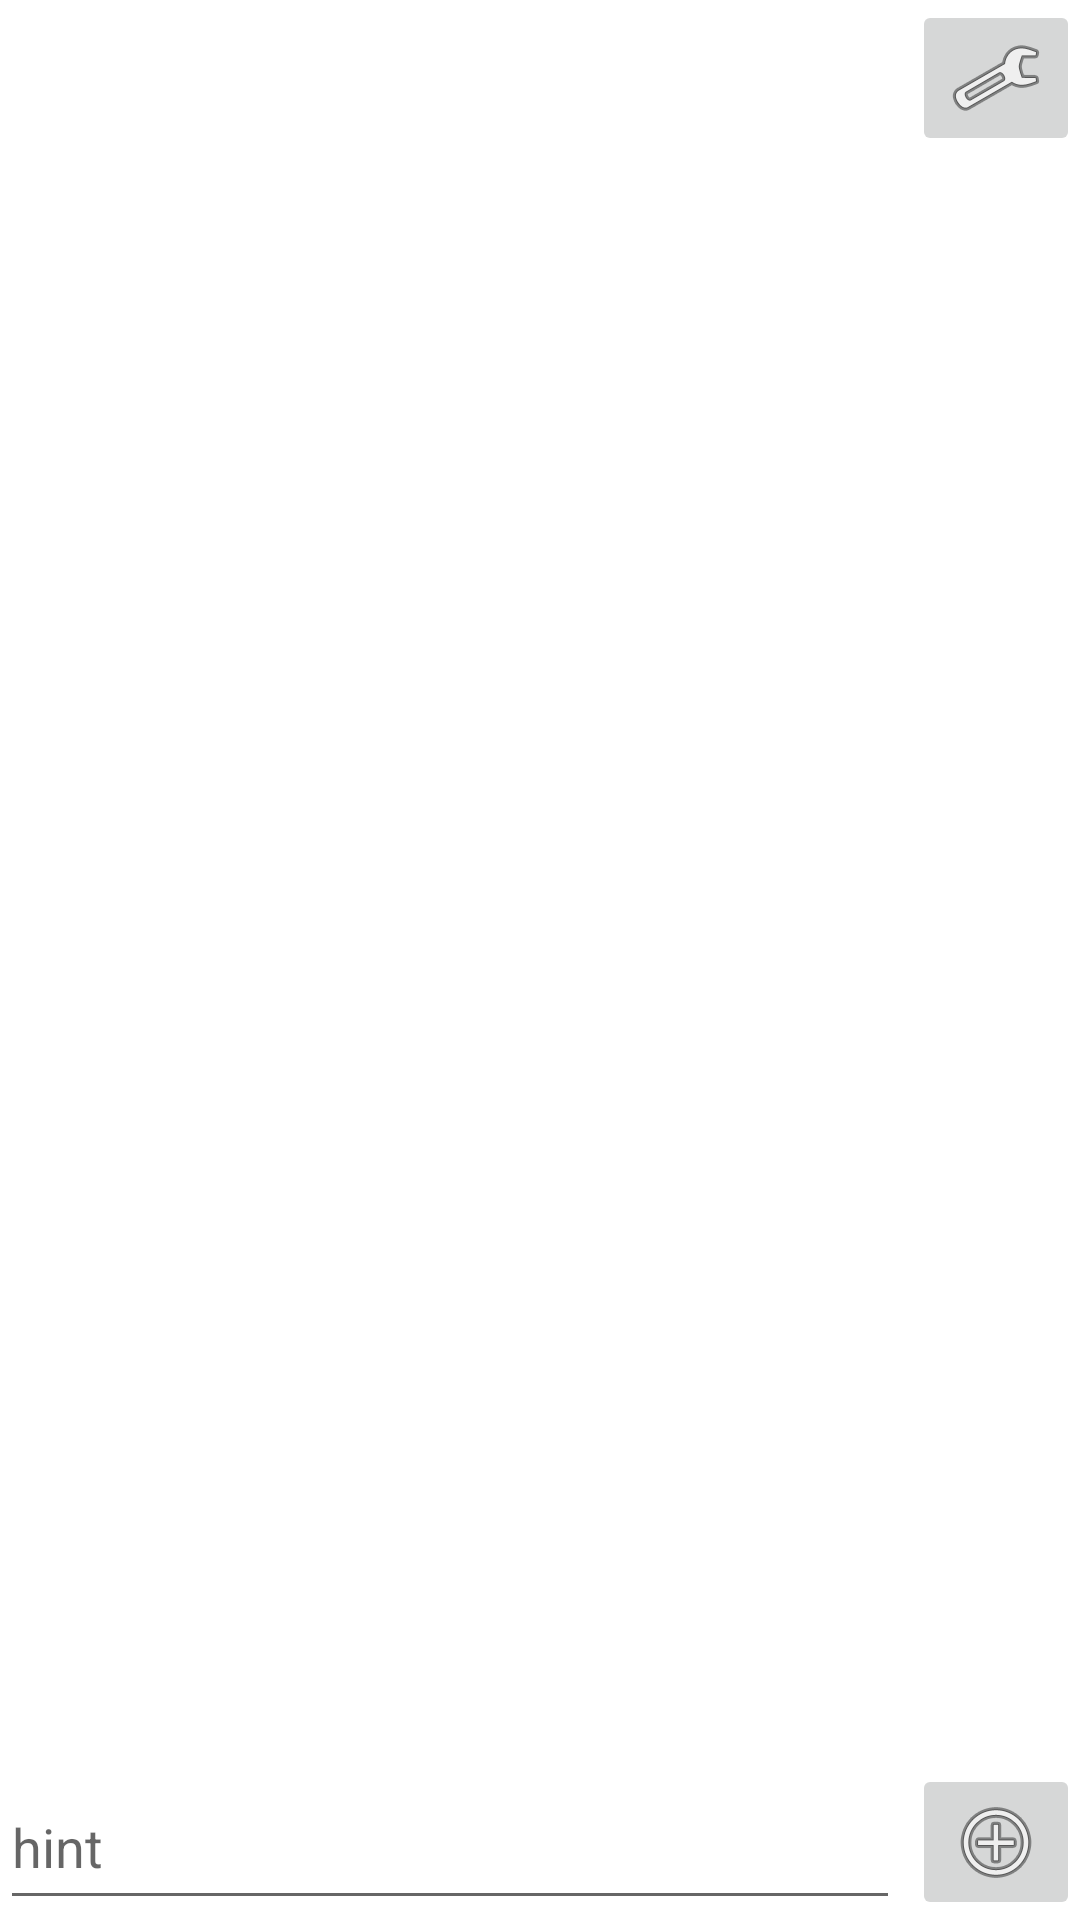

Screen size 1080px×1920px. Icon name, then its center in pixels as point (x, y):
add: point (996, 1842)
manage: point (996, 78)
